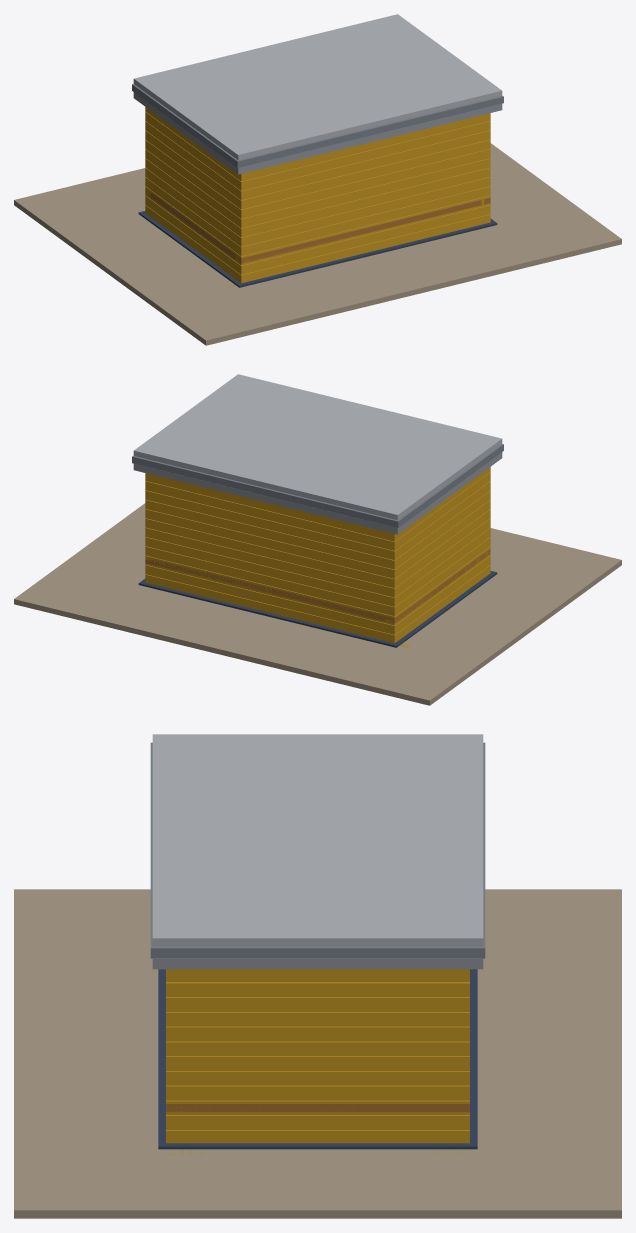
The model's file is stage_06_roof.glb.
3 renders of one model, top to bottom at view 1: azimuth 30°, elevation 25°; view 2: azimuth 150°, elevation 25°; view 3: azimuth 270°, elevation 25°, orthographic. The views are drawn at different scales.
Parts seen in each view (by area): view 1: world; view 2: world; view 3: world.
Part boxes in pixels (left/top/right/bottom): world: left=14, top=14, right=621, bottom=345; world: left=14, top=374, right=621, bottom=705; world: left=14, top=734, right=621, bottom=1218.
Size of the model in its own units: 10 by 3.9 by 8.
